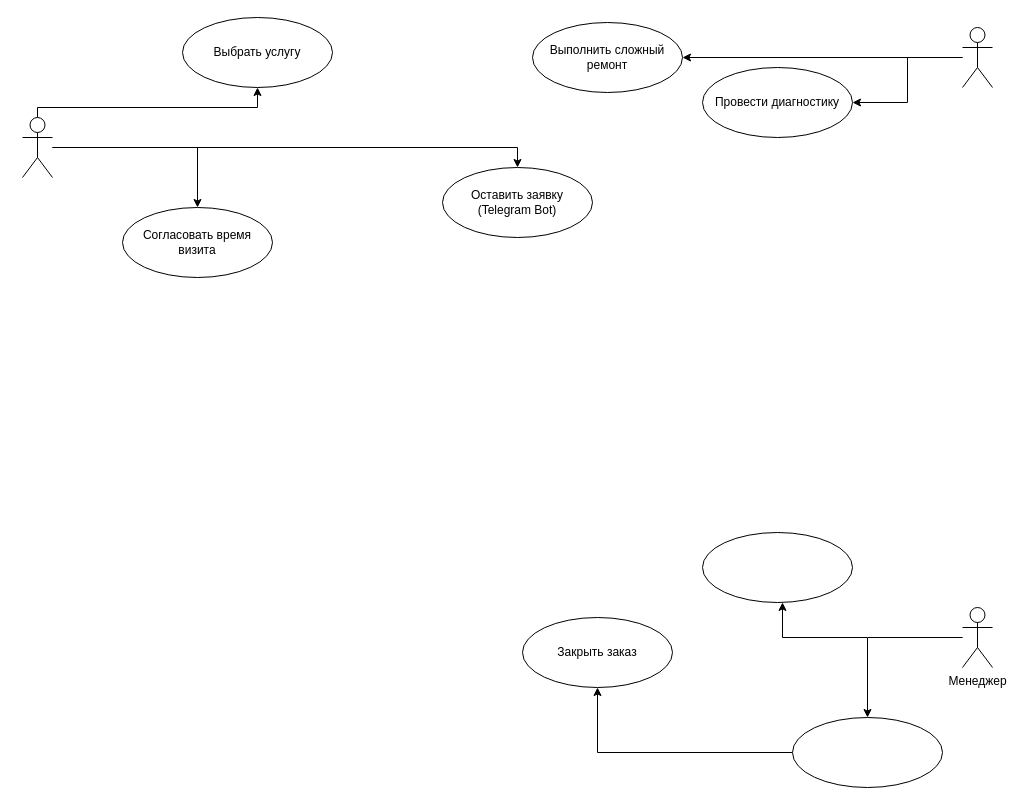
The diagram is 1024 pixels wide and 805 high, and some of its shapes have lost their labels. Each missing label, with the box of its shape:
Клиент: (22, 116, 52, 178)
Механик: (962, 26, 992, 88)
Назначить исполнителя: (702, 532, 852, 602)
Сформировать смету: (792, 716, 942, 788)
